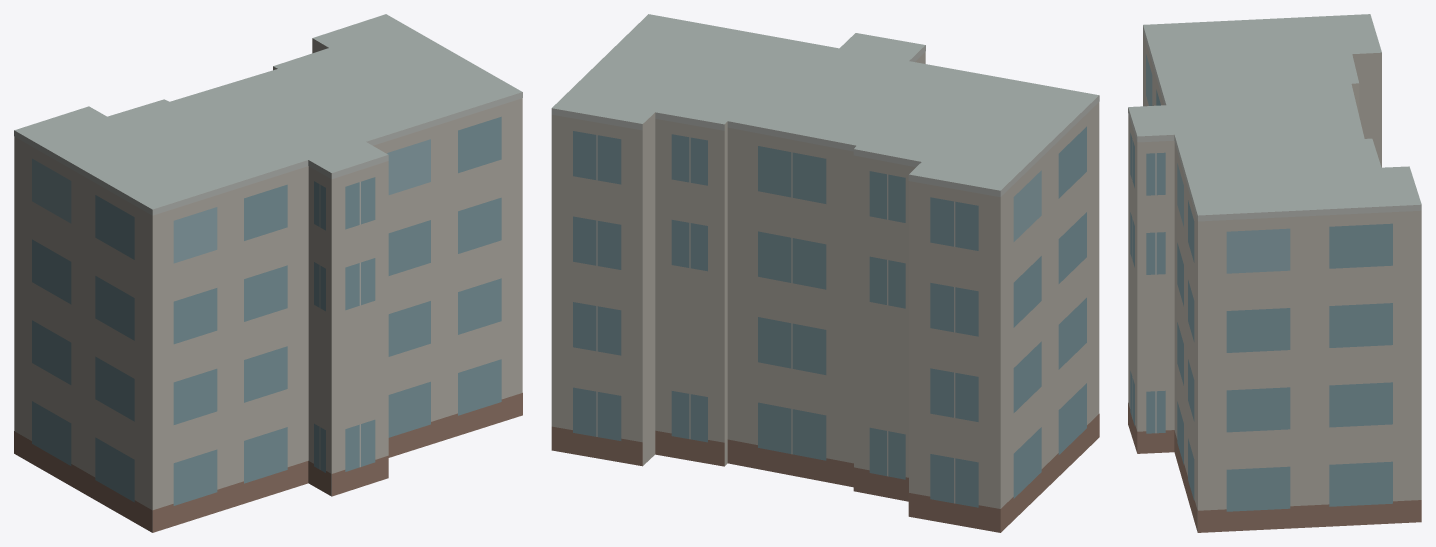
The model's file is survey-upis-32755480.glb.
The picture shows the model from 3 angles, left to right: view 1: azimuth 30°, elevation 25°; view 2: azimuth 150°, elevation 25°; view 3: azimuth 270°, elevation 25°; orthographic projection. The views are drawn at different scales.
Visible parts, largest first — view 1: survey-upis-32755480.tmp; view 2: survey-upis-32755480.tmp; view 3: survey-upis-32755480.tmp.
Part boxes in pixels (x1=…): survey-upis-32755480.tmp: x1=14, y1=14, x2=522, y2=532; survey-upis-32755480.tmp: x1=551, y1=14, x2=1099, y2=532; survey-upis-32755480.tmp: x1=1128, y1=14, x2=1421, y2=532.
Bounding box in the file's own units: 17.57 × 12.9 × 10.83.
